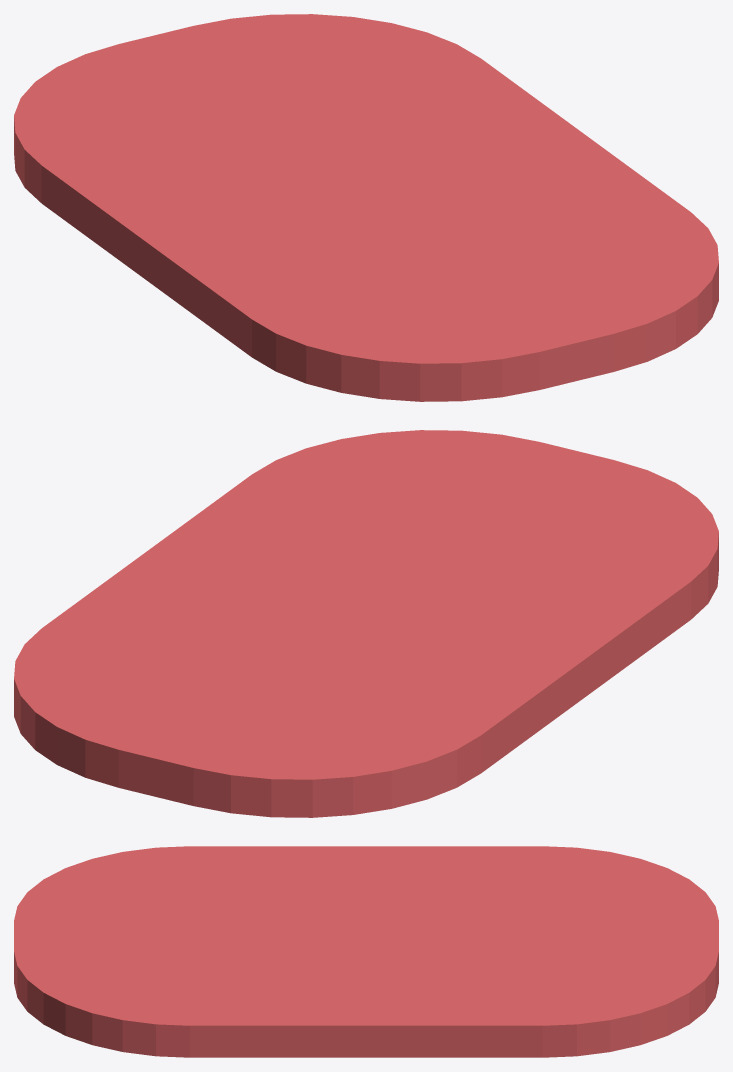
File: SpamPortions.fbx
3 renders of one model, top to bottom at view 1: azimuth 30°, elevation 25°; view 2: azimuth 150°, elevation 25°; view 3: azimuth 270°, elevation 25°, orthographic. The views are drawn at different scales.
Parts seen in each view (by area): view 1: SpamRawPortion; view 2: SpamRawPortion; view 3: SpamRawPortion.
Part boxes in pixels (box(x1,y1,x2,y2)): SpamRawPortion: box(14, 14, 718, 401); SpamRawPortion: box(14, 430, 718, 817); SpamRawPortion: box(14, 846, 718, 1057).
Size of the model in its own units: 241 by 20 by 400.
